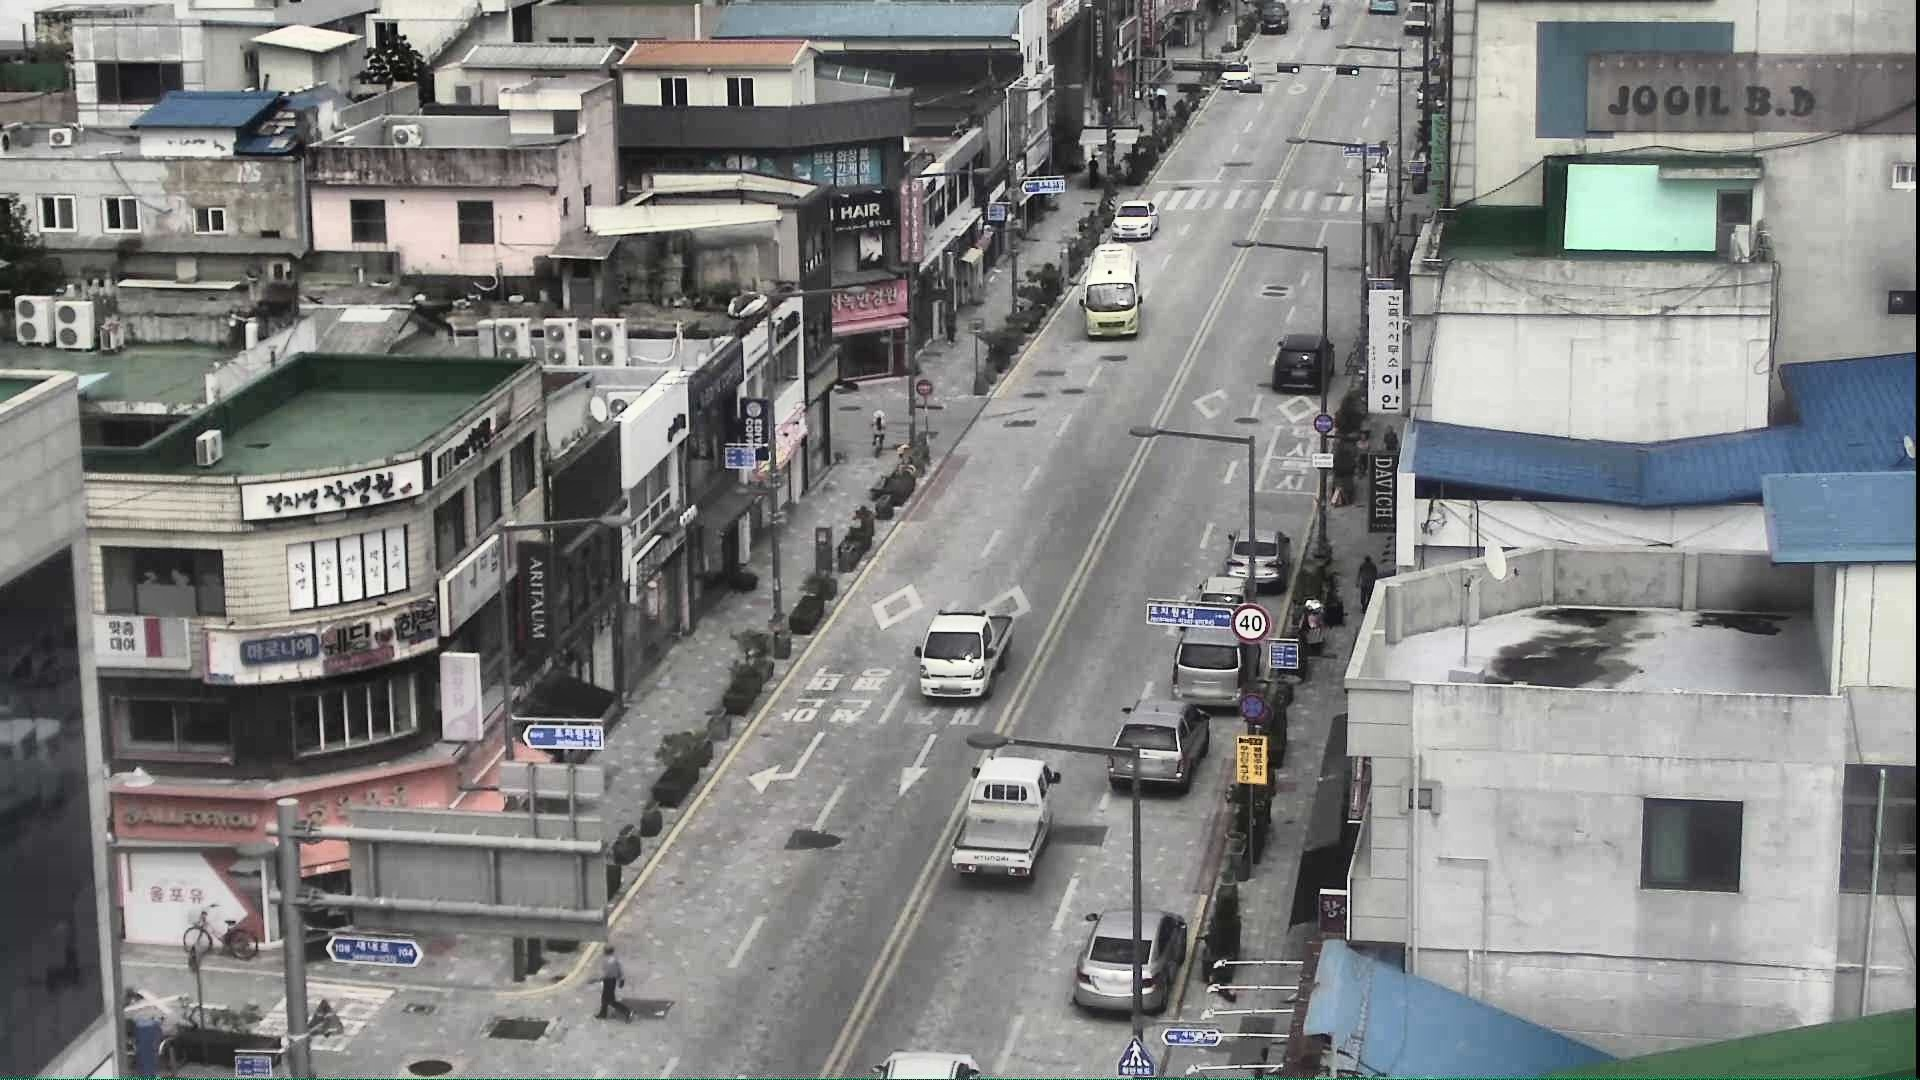jaywalk: (593, 943, 633, 1019)
sidewalk: (1350, 430, 1375, 480), (1357, 551, 1377, 608), (866, 409, 889, 452), (943, 301, 959, 347), (1087, 153, 1102, 185)
